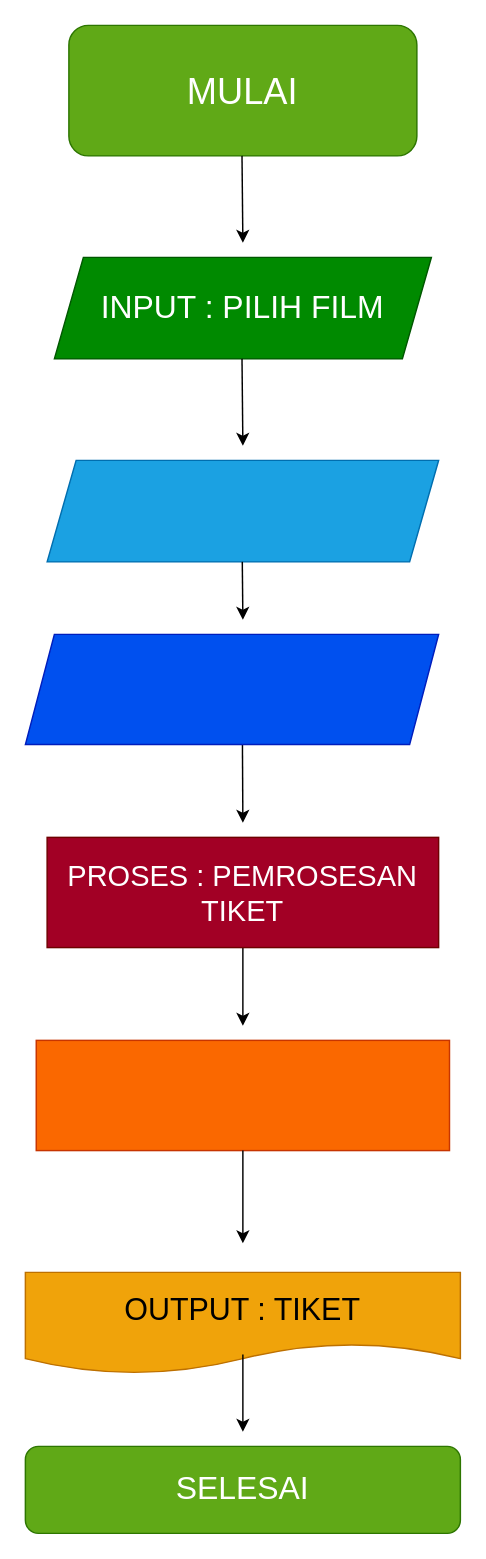
The diagram is 486 pixels wide and 1559 high, and some of its shapes have lost their labels. The shapes that lost their labels are listed below. From the top down, each one's centre as x and y in pixels, then its label:
[242,510]: INPUT : PILIH KURSI
[231,689]: INPUT : BAYAR
[242,1095]: PROSES : SIMPAN DATA
